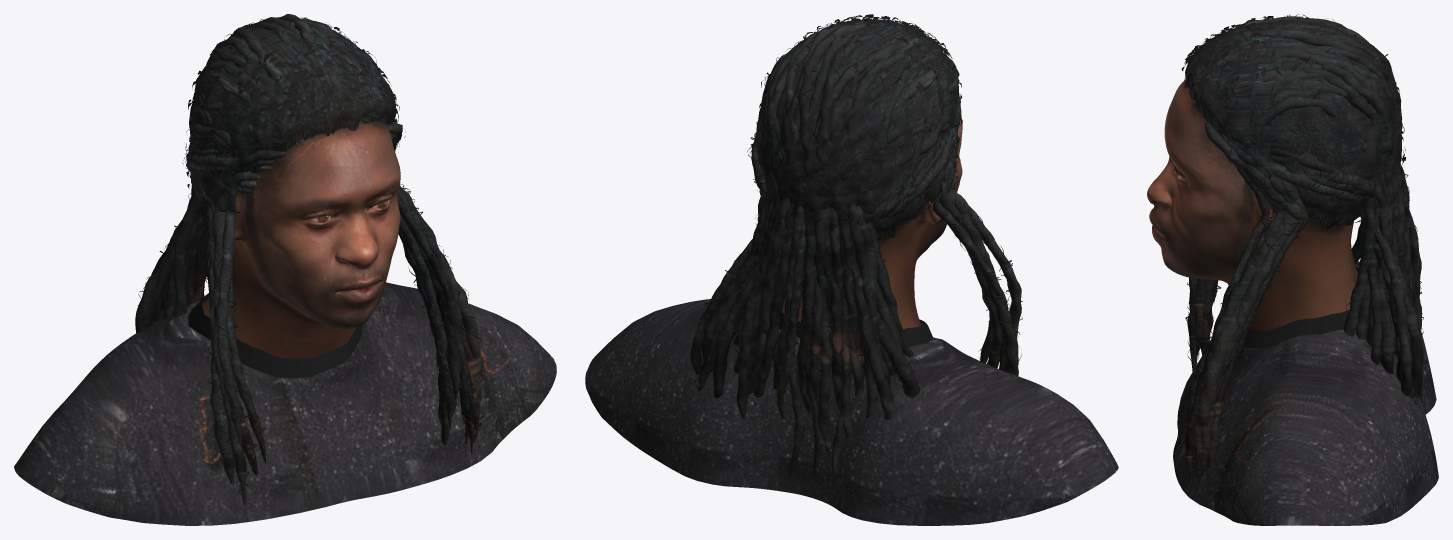
Rendered from performer.glb.
3 views of the same model, side by side, from view 1: azimuth 30°, elevation 25°; view 2: azimuth 150°, elevation 25°; view 3: azimuth 270°, elevation 25° (orthographic). The views are drawn at different scales.
Visible parts, largest first — view 1: Crewneck, Locs, Face, Hairline, Hair curl veil, Hair fibers, Collar; view 2: Crewneck, Locs, Hairline, Hair curl veil, Face, Hair fibers, Collar; view 3: Locs, Crewneck, Face, Hairline, Hair curl veil, Hair fibers, Collar.
Part boxes in pixels (bbox=[...]): Crewneck: bbox=[14, 282, 556, 525]; Locs: bbox=[135, 14, 482, 504]; Face: bbox=[202, 120, 400, 360]; Hairline: bbox=[188, 27, 396, 201]; Hair curl veil: bbox=[185, 20, 399, 201]; Hair fibers: bbox=[138, 17, 483, 494]; Collar: bbox=[188, 293, 362, 378]; Crewneck: bbox=[585, 299, 1118, 525]; Locs: bbox=[690, 21, 1021, 476]; Hairline: bbox=[755, 19, 959, 237]; Hair curl veil: bbox=[754, 14, 962, 238]; Face: bbox=[782, 115, 962, 332]; Hair fibers: bbox=[695, 18, 1022, 474]; Collar: bbox=[779, 312, 933, 349]; Locs: bbox=[1185, 16, 1423, 485]; Crewneck: bbox=[1173, 261, 1438, 525]; Face: bbox=[1147, 79, 1357, 330]; Hairline: bbox=[1185, 19, 1402, 225]; Hair curl veil: bbox=[1181, 16, 1405, 225]; Hair fibers: bbox=[1183, 14, 1426, 473]; Collar: bbox=[1244, 266, 1368, 348].
Bounding box in the file's own units: 2.69 × 2.11 × 1.35.
9 materials, 7 textured.
